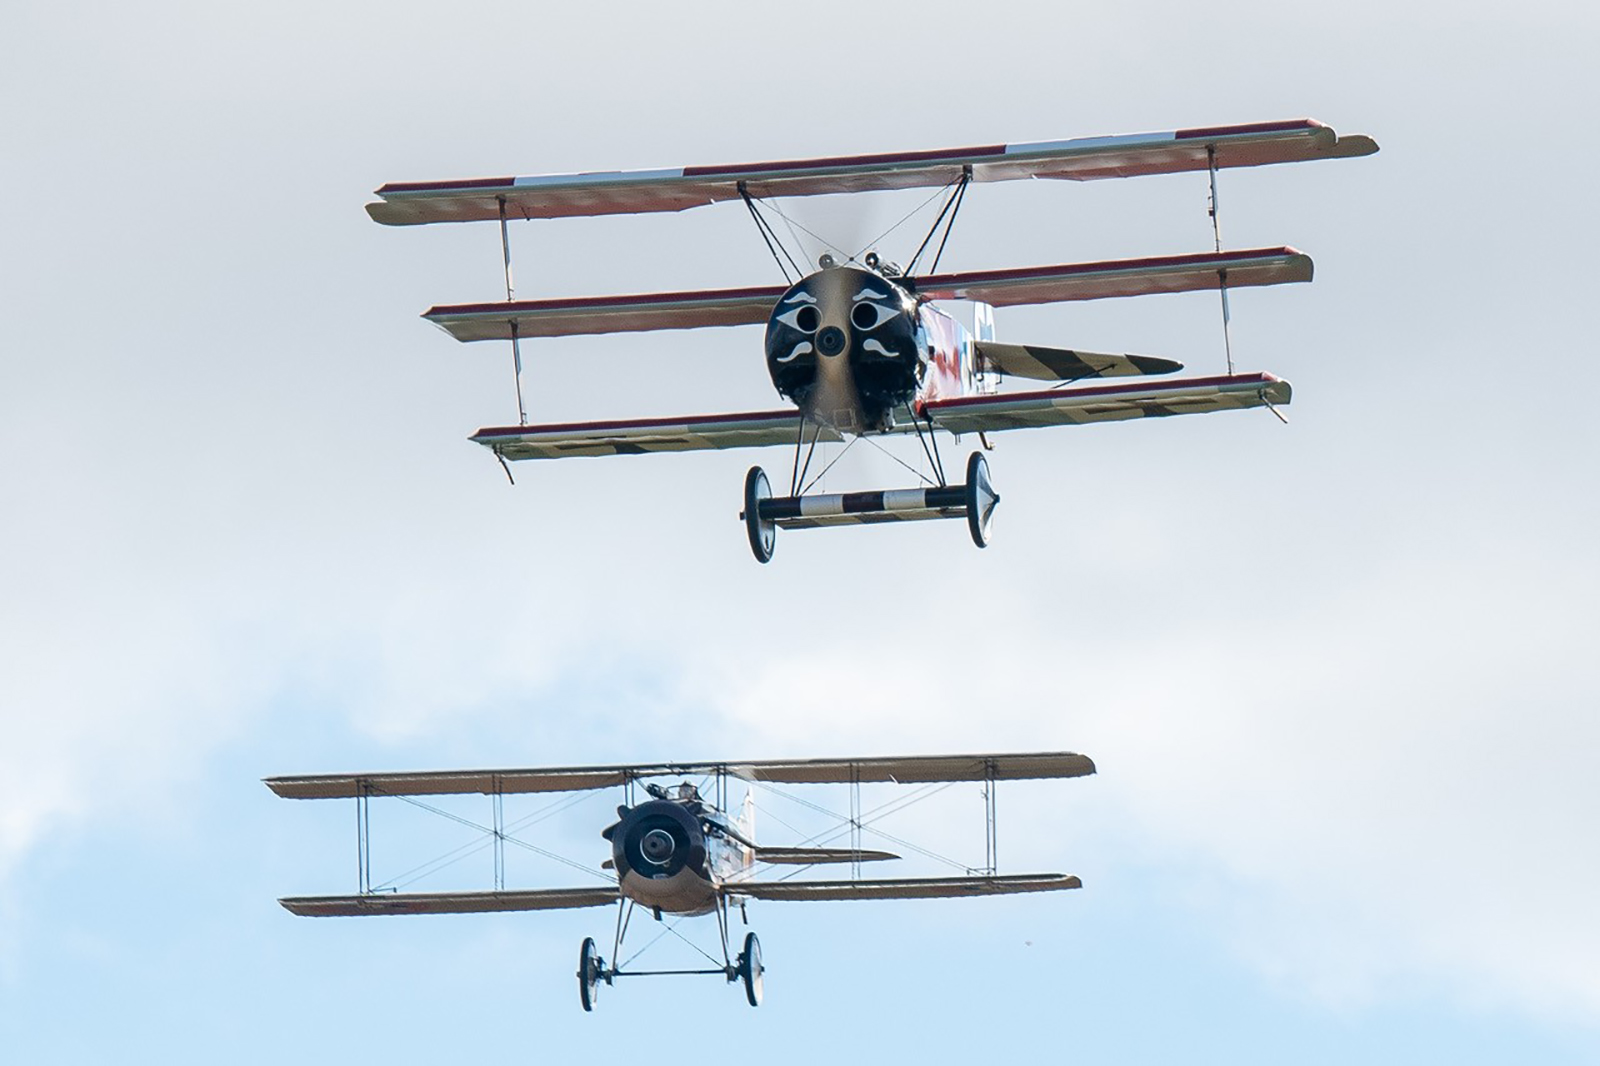plane: (362, 117, 1381, 564), (258, 748, 1102, 1012)
